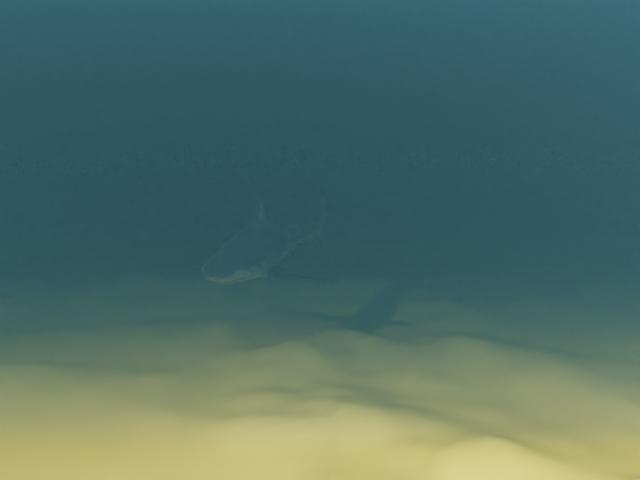Carribean Shark.001: (187, 185, 331, 284)
